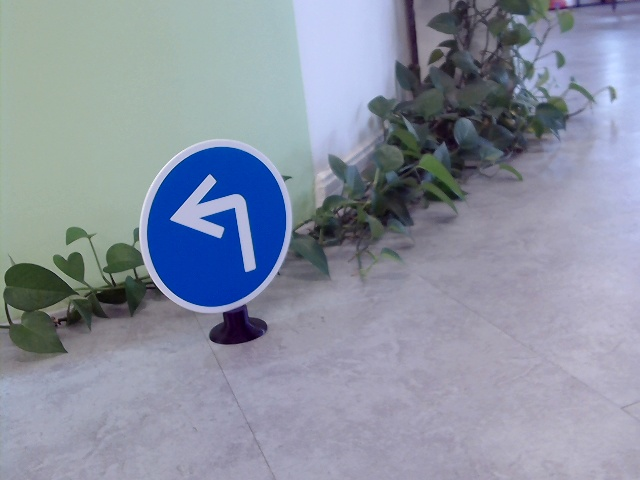turn_left: (170, 175, 255, 276)
